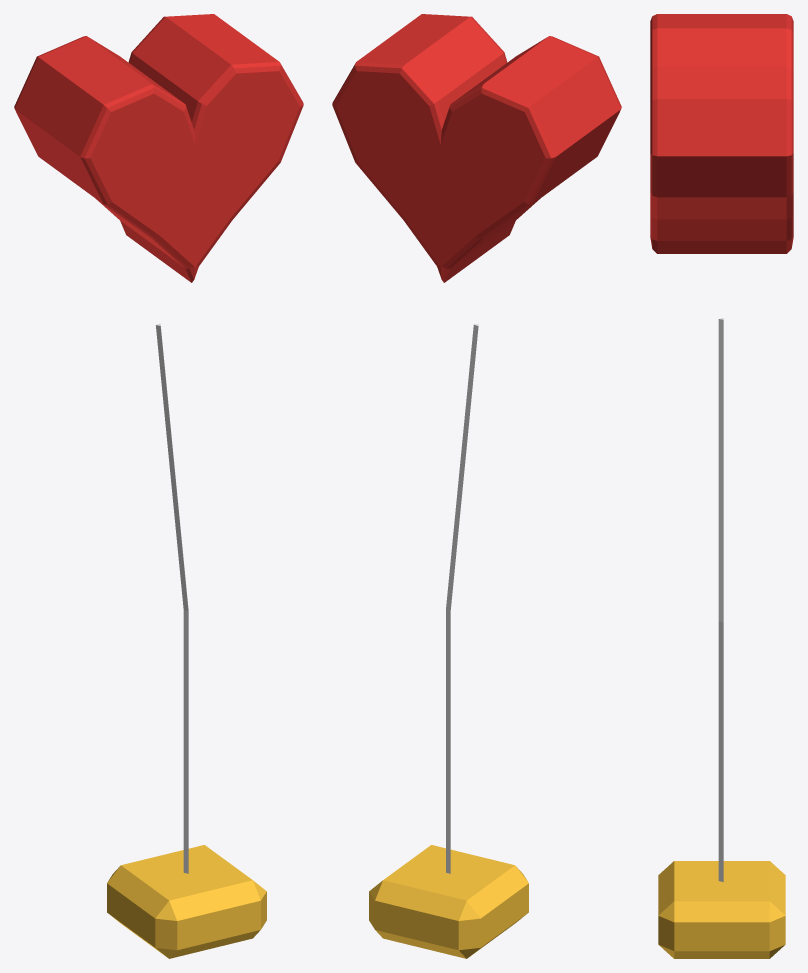
File: HeartBalloon.fbx
3 views of the same model, side by side, from view 1: azimuth 30°, elevation 25°; view 2: azimuth 150°, elevation 25°; view 3: azimuth 270°, elevation 25° (orthographic).
Visible parts, largest first — view 1: HeartBalloon; view 2: HeartBalloon; view 3: HeartBalloon.
Boxes of the visible parts, x1,y1,x2,y2 form: HeartBalloon: (14, 14, 303, 958); HeartBalloon: (332, 14, 621, 958); HeartBalloon: (650, 14, 793, 958).
Bounding box in the file's own units: 1.6 × 6.08 × 0.9.
Materials: 1 (1 with a texture image).
